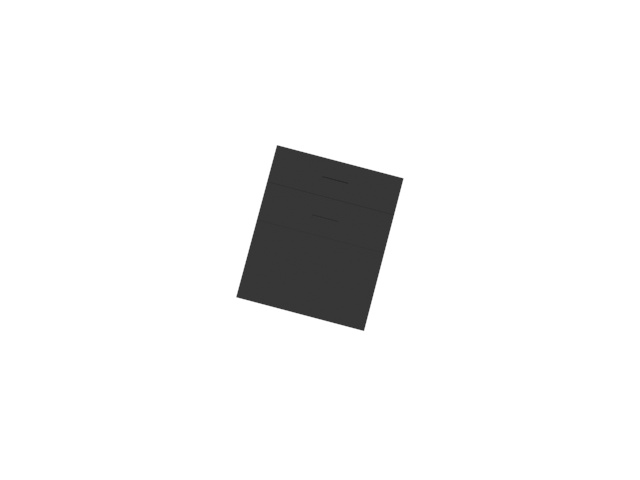file_cabinet: (233, 145, 408, 336)
